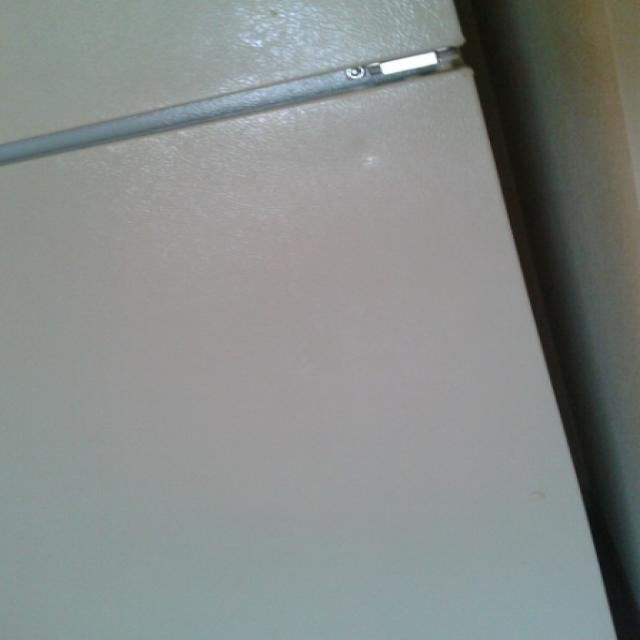dents: (324, 134, 428, 204)
